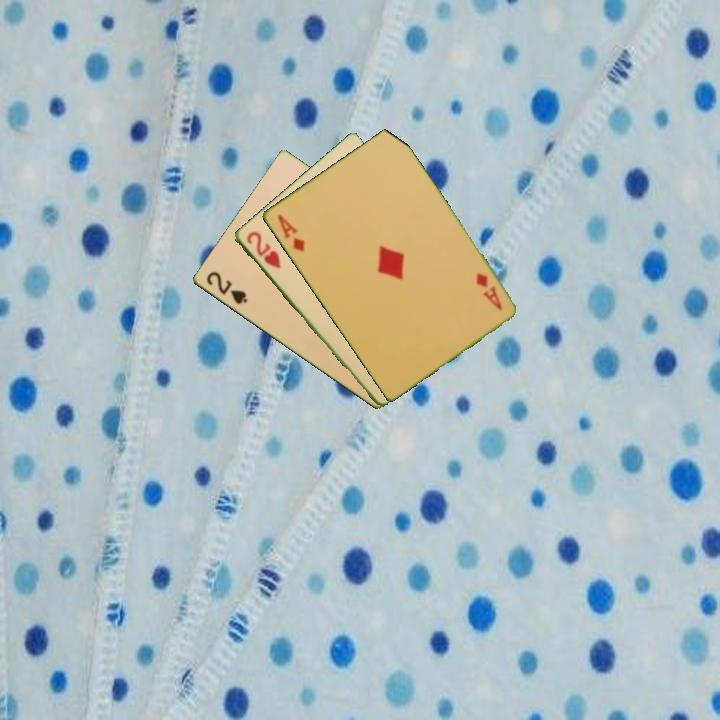2h: (242, 228, 284, 272)
2s: (202, 268, 250, 307)
Ad: (273, 211, 307, 255), (472, 269, 505, 314)
